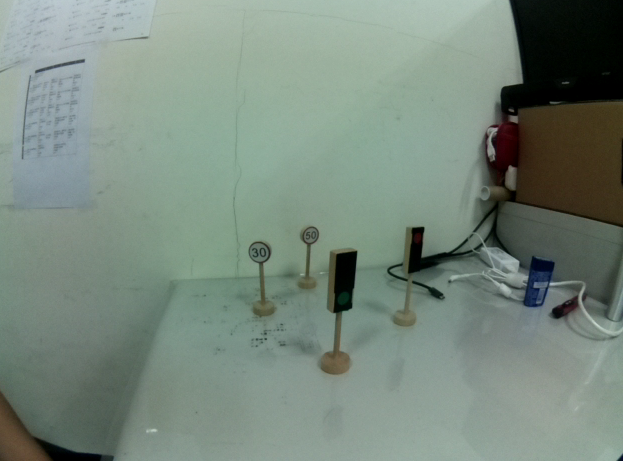Green: (324, 249, 359, 315)
Red: (400, 222, 426, 275)
Speed30: (247, 239, 272, 267)
Speed50: (299, 223, 322, 245)
